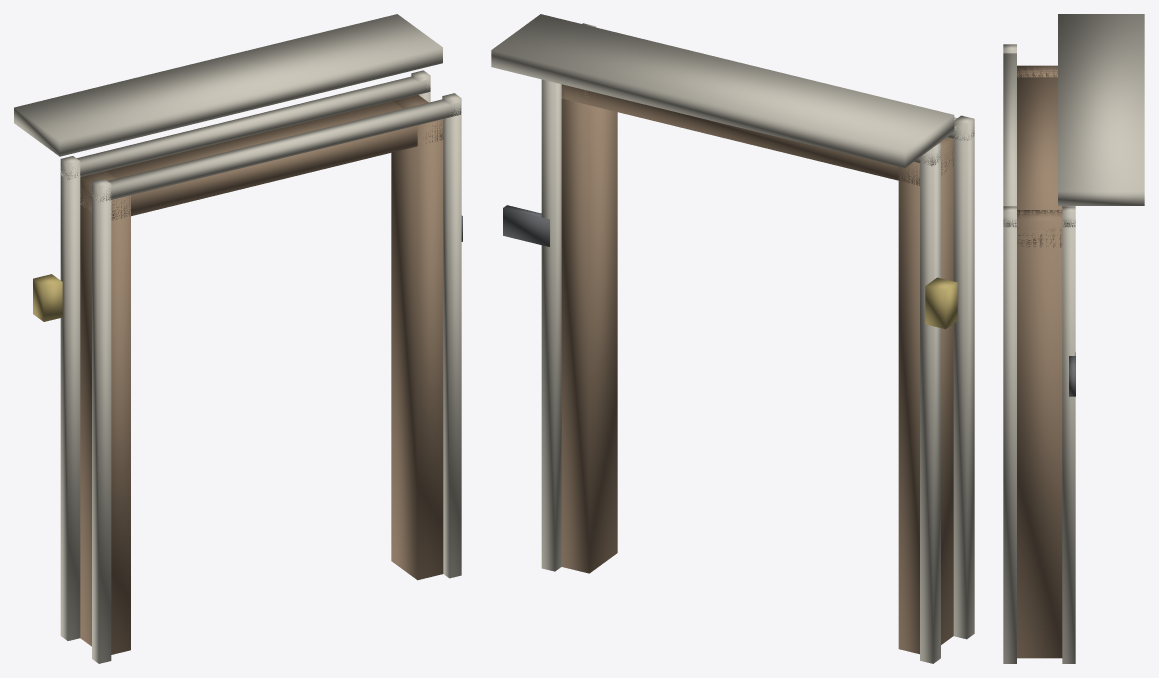
Rendered from doorway_motel_w152_h220_d24.glb.
The picture shows the model from 3 angles, left to right: view 1: azimuth 30°, elevation 25°; view 2: azimuth 150°, elevation 25°; view 3: azimuth 270°, elevation 25°; orthographic projection. The views are drawn at different scales.
Parts seen in each view (by area): view 1: world; view 2: world; view 3: world.
Boxes of the visible parts, box(x1,y1,x2,y2) form: world: box(14, 14, 462, 663); world: box(491, 14, 974, 663); world: box(1003, 14, 1144, 663).
Bounding box in the file's own units: 2.22 × 2.56 × 0.6858.
